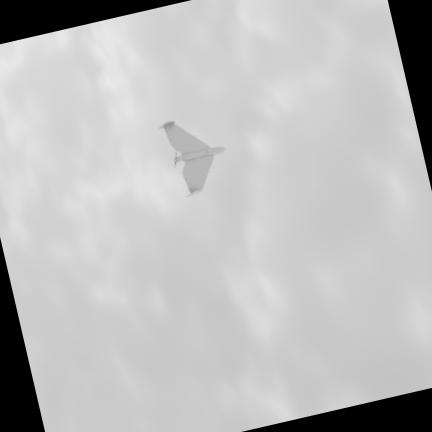Shahed: (158, 121, 225, 196)
